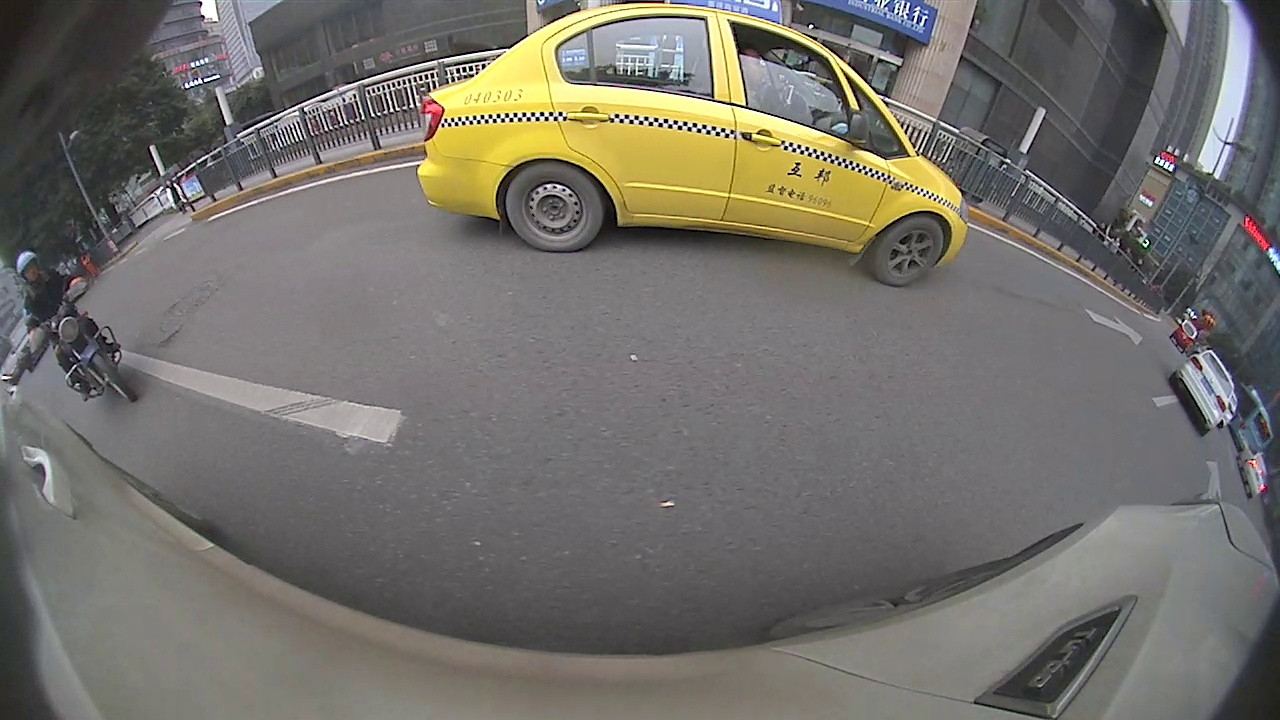car: (416, 2, 972, 289), (1168, 347, 1237, 436)
front: (873, 215, 947, 287), (84, 348, 138, 404)
rear: (505, 163, 605, 254)
rider: (16, 250, 139, 405)
